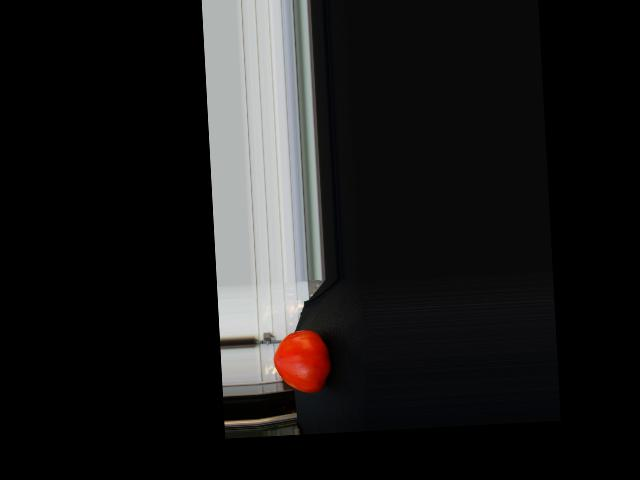tomato: (271, 328, 332, 394)
